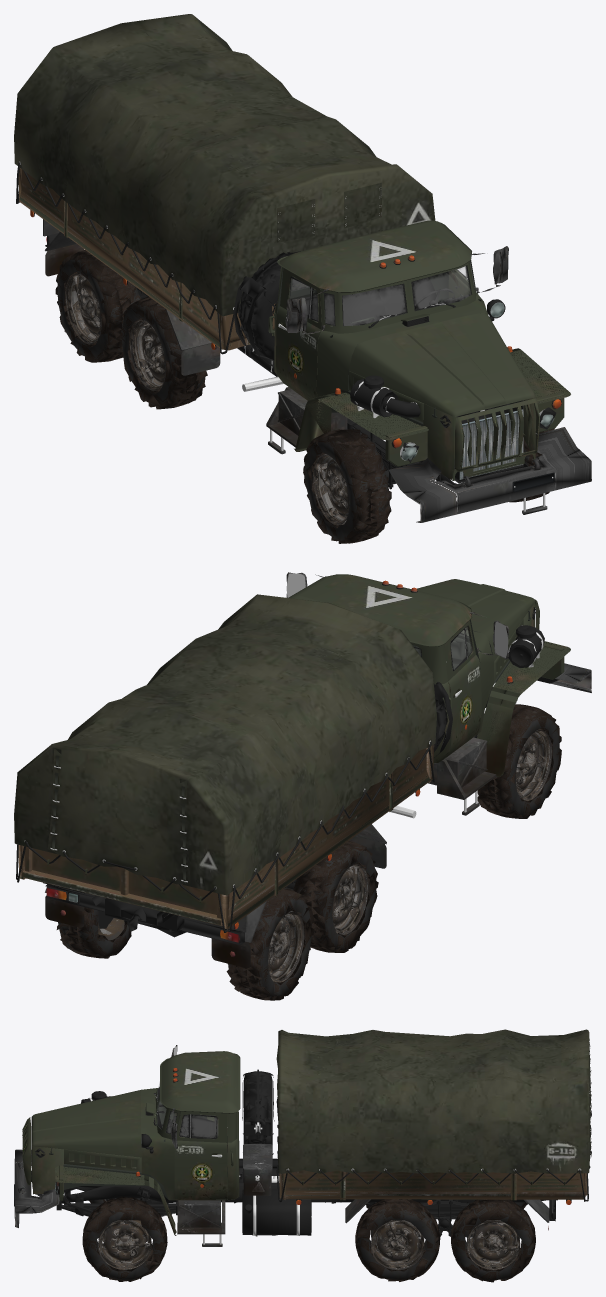
Rendered from ural_4320.glb.
3 views of the same model, one above another, from view 1: azimuth 30°, elevation 25°; view 2: azimuth 150°, elevation 25°; view 3: azimuth 270°, elevation 25° (orthographic). The views are drawn at different scales.
Visible parts, largest first — view 1: Object_67, Object_37, Object_59, wheel_2_L, Object_17, Object_22, Object_11, wheel_0_L, wheel_1_L, Object_7, Object_77, Object_27 (+15 smaller); view 2: Object_67, Object_22, Object_59, wheel_1_L, Object_20, wheel_2_L, wheel_0_L, Object_11, Object_37, Object_51, Object_27, Object_35 (+12 smaller); view 3: Object_67, Object_22, wheel_2_R, wheel_0_R, wheel_1_R, Object_37, Object_59, Object_11, Object_27, Object_7, Object_64, Object_35 (+15 smaller).
Boxes of the visible parts, <box> form: Object_67: <box>14,14,435,316</box>; Object_37: <box>349,313,535,416</box>; Object_59: <box>277,220,471,292</box>; wheel_2_L: <box>303,429,391,543</box>; Object_17: <box>388,427,591,522</box>; Object_22: <box>18,168,275,350</box>; Object_11: <box>294,348,570,480</box>; wheel_0_L: <box>55,250,141,362</box>; wheel_1_L: <box>119,296,207,409</box>; Object_7: <box>274,260,487,400</box>; Object_77: <box>290,262,474,326</box>; Object_27: <box>276,268,477,400</box>; Object_67: <box>14,594,436,895</box>; Object_22: <box>18,744,434,929</box>; Object_59: <box>288,574,471,646</box>; wheel_1_L: <box>293,840,378,952</box>; Object_20: <box>22,846,222,925</box>; wheel_2_L: <box>477,704,561,818</box>; wheel_0_L: <box>226,888,314,1000</box>; Object_11: <box>477,602,570,776</box>; Object_37: <box>417,579,535,661</box>; Object_51: <box>43,824,386,968</box>; Object_27: <box>444,620,481,758</box>; Object_35: <box>45,677,558,945</box>; Object_67: <box>276,1029,591,1173</box>; Object_22: <box>279,1170,586,1200</box>; wheel_2_R: <box>82,1196,167,1281</box>; wheel_0_R: <box>451,1199,535,1282</box>; wheel_1_R: <box>355,1199,440,1281</box>; Object_37: <box>31,1090,141,1157</box>; Object_59: <box>160,1051,240,1113</box>; Object_11: <box>31,1146,176,1235</box>; Object_27: <box>174,1111,227,1199</box>; Object_7: <box>141,1088,239,1200</box>; Object_64: <box>242,1189,311,1236</box>; Object_35: <box>31,1158,557,1221</box>.
Size of the model in its own units: 2.61 by 2.99 by 7.89.
Materials: 18 (10 with a texture image).
